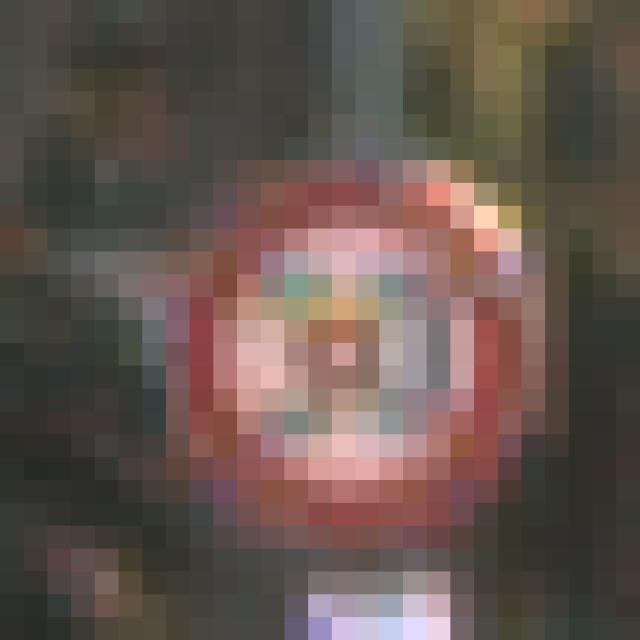Speed Limit -30-: (130, 102, 486, 492)
